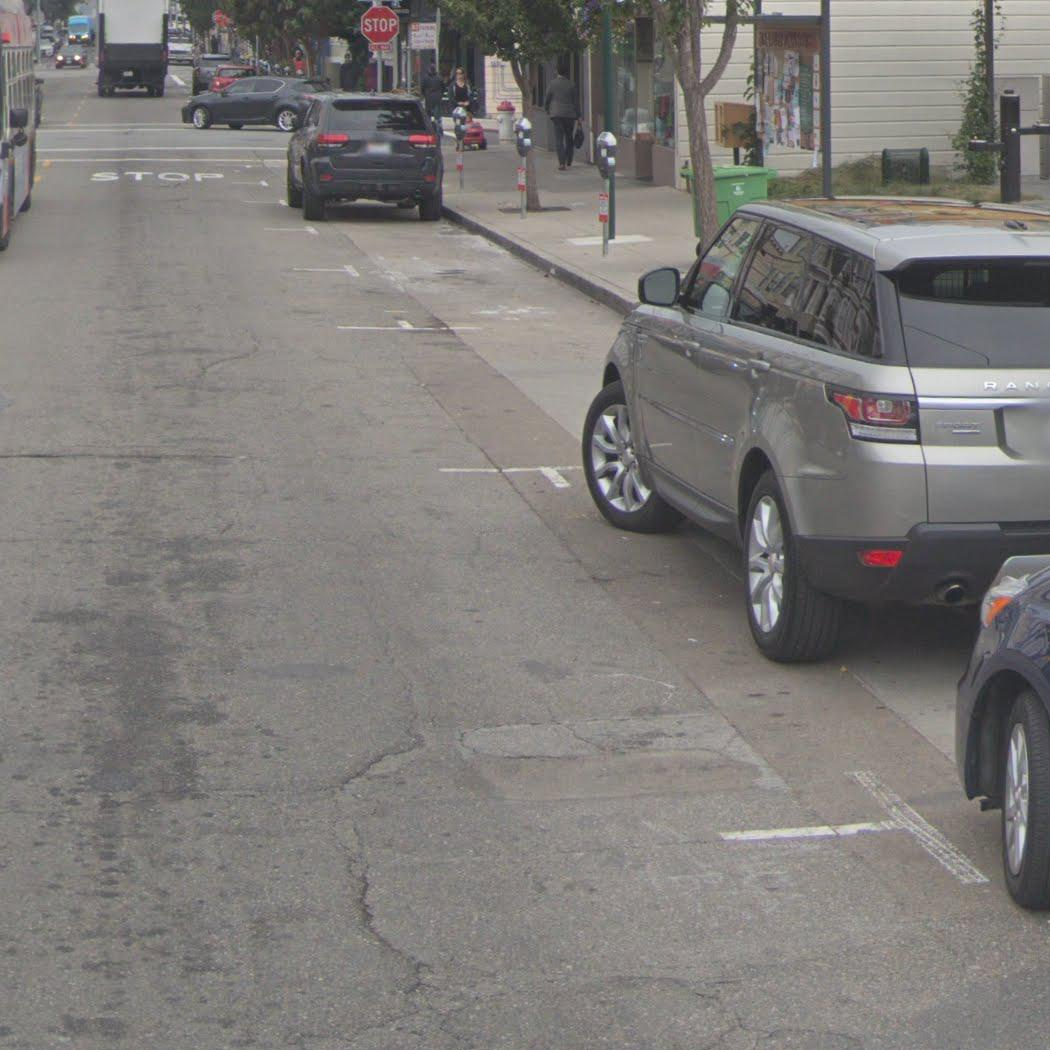No Parking: (410, 22, 437, 51)
